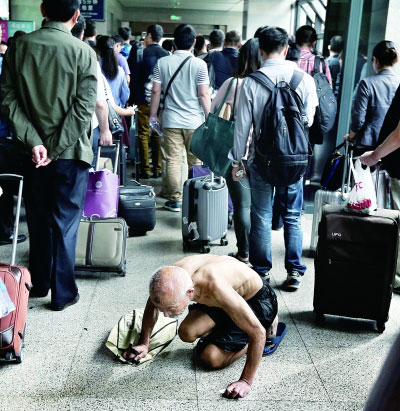10+: (4, 3, 399, 384)
down: (104, 236, 304, 407)
